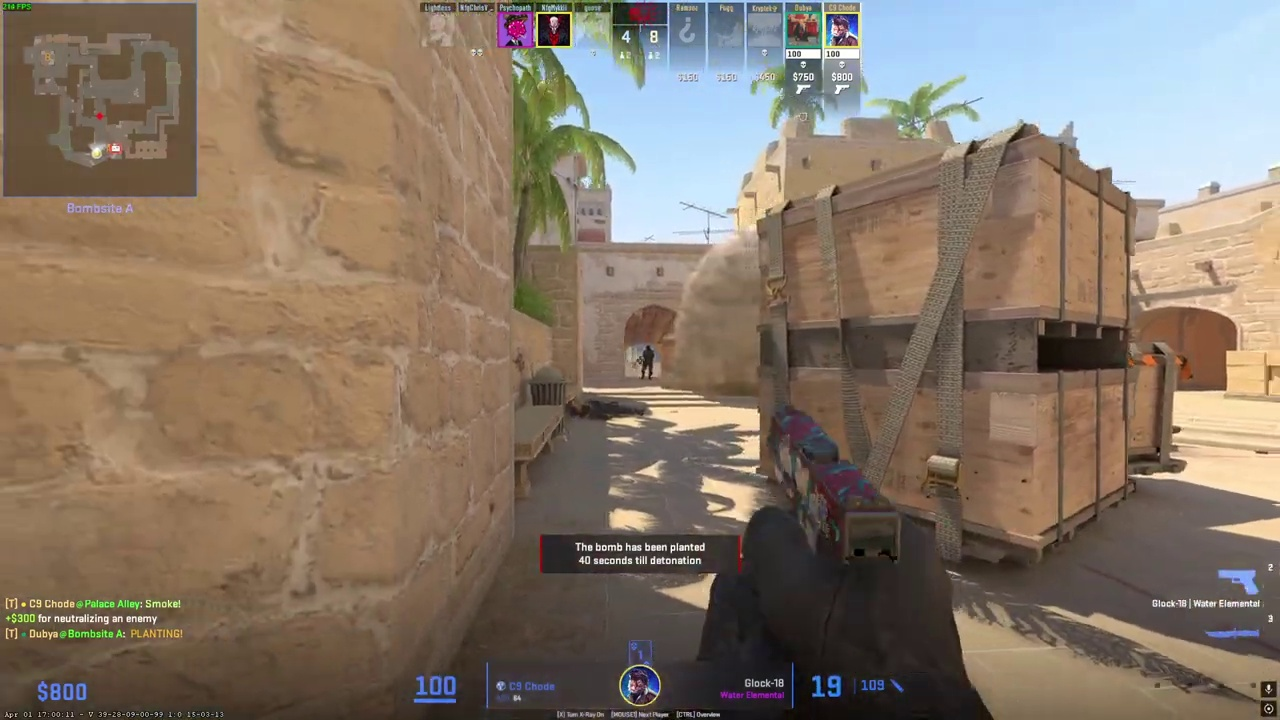CT: (639, 345, 654, 380)
